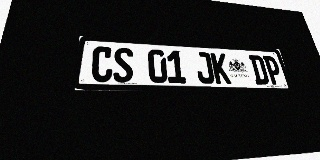0: (147, 49, 168, 83)
1: (166, 50, 186, 83)
C: (91, 46, 113, 82)
D: (248, 55, 270, 85)
J: (194, 52, 215, 84)
K: (210, 53, 231, 84)
P: (262, 56, 284, 85)
S: (113, 47, 133, 83)
